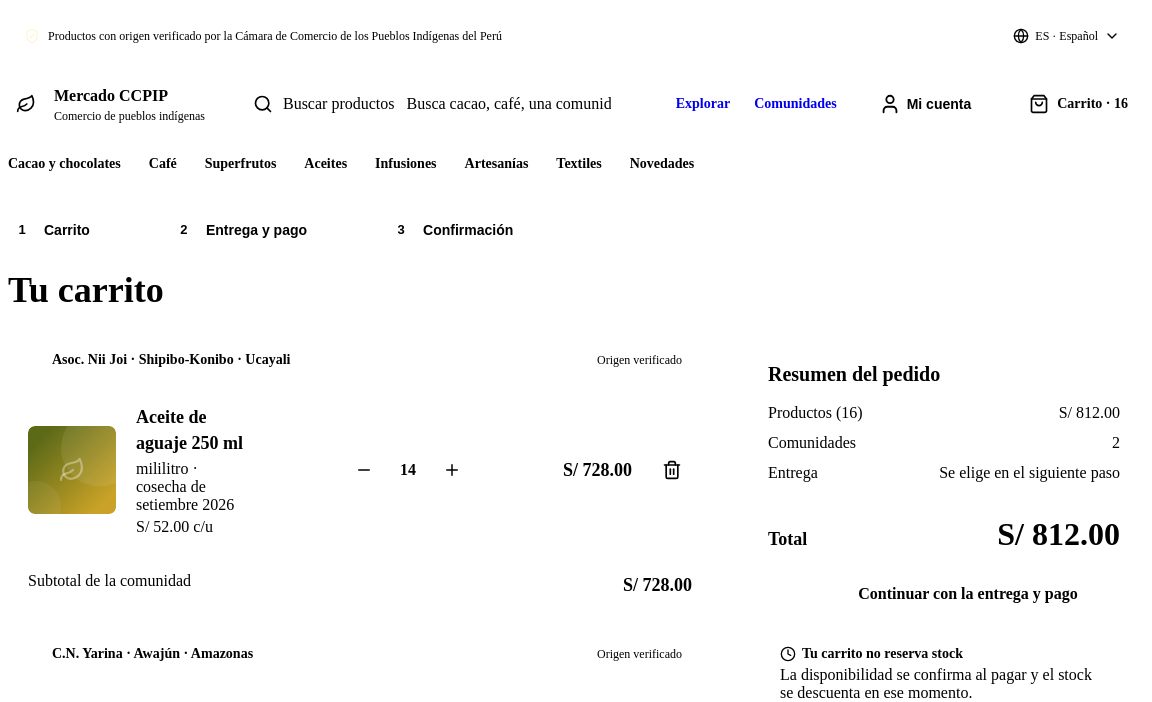
it: CCPIP-268 Modificar la cantidad en el carrito › si guardar la cantidad falla, "Guardando…" y su aro se quitan (CCPIP-413)
Click the button named "Agregar una unidad" at (452, 470), box [432,446,472,494]
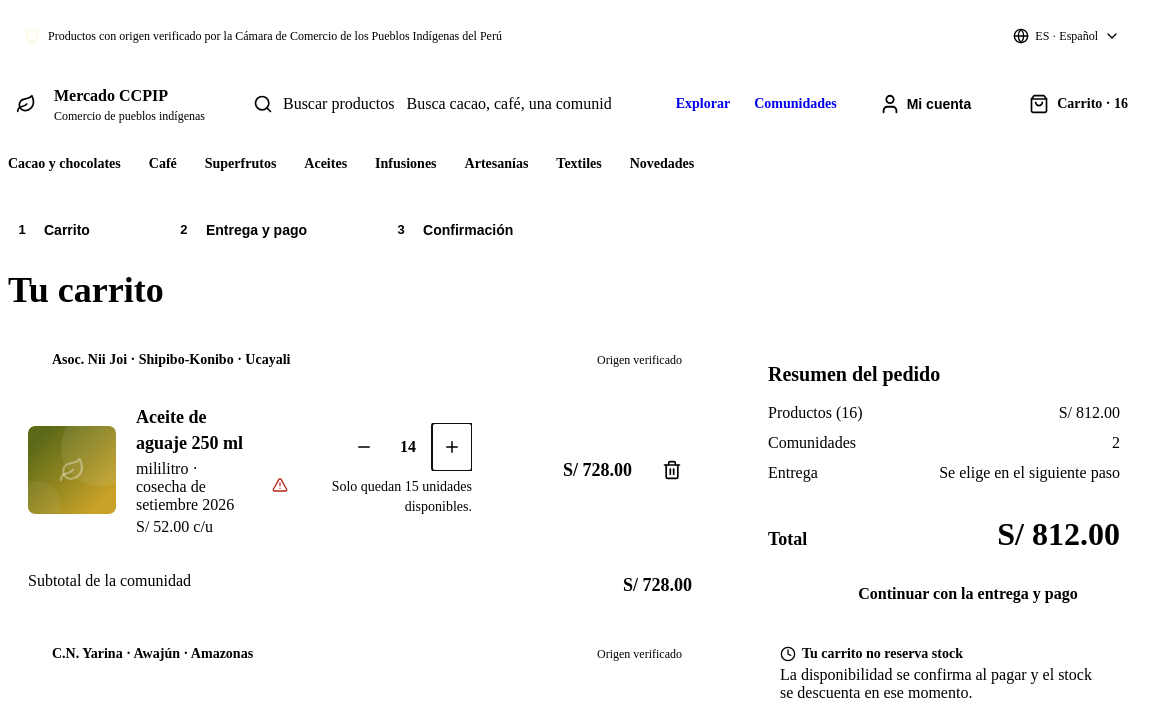
Check: the text "Solo quedan 15 unidades disponibles." is shown, box [272,477,472,517]
